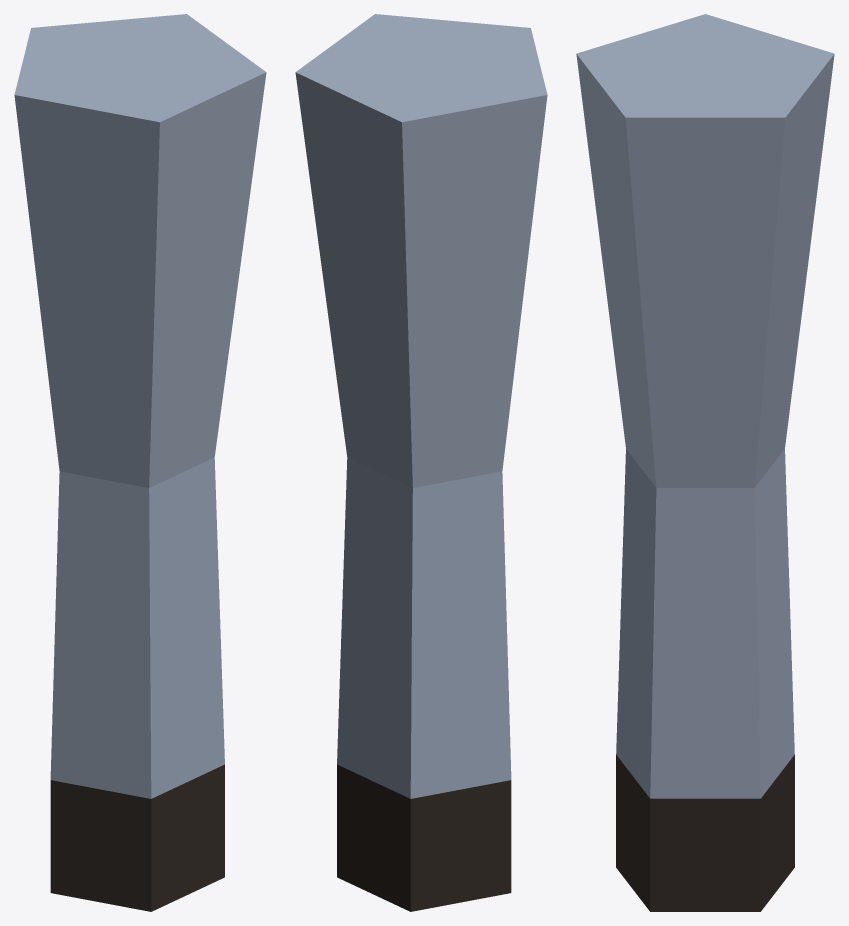
File: animal_thrumbo_leg.obj
The picture shows the model from 3 angles, left to right: view 1: azimuth 30°, elevation 25°; view 2: azimuth 150°, elevation 25°; view 3: azimuth 270°, elevation 25°; orthographic projection.
Visible parts, largest first — view 1: animal_thrumbo_leg; view 2: animal_thrumbo_leg; view 3: animal_thrumbo_leg.
Boxes of the visible parts, box(x1,y1,x2,y2) form: animal_thrumbo_leg: box(14, 14, 266, 911); animal_thrumbo_leg: box(295, 14, 547, 911); animal_thrumbo_leg: box(576, 14, 834, 911).
Bounding box in the file's own units: 0.3309 × 1.2 × 0.348.
